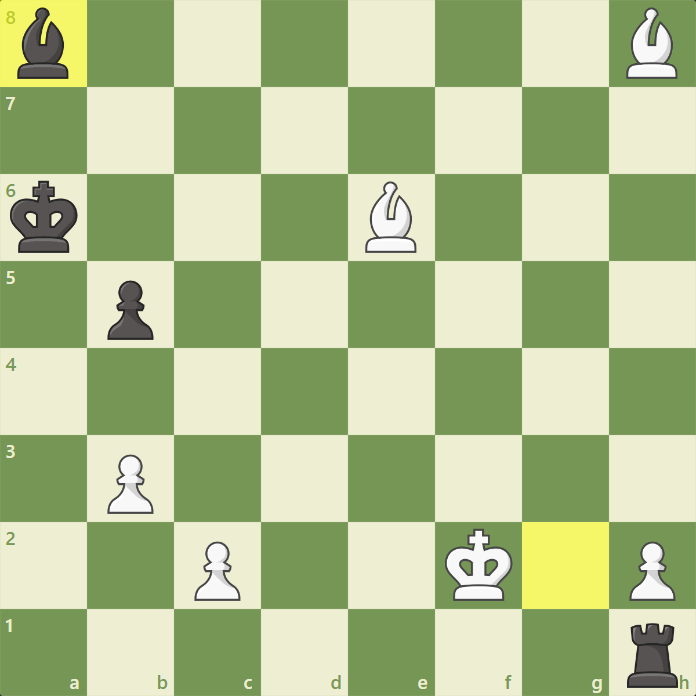B: (362, 177, 419, 256), (624, 5, 680, 81)
K: (443, 526, 514, 604)
P: (191, 539, 244, 604), (104, 452, 157, 517), (627, 540, 678, 603)
b: (15, 6, 71, 82)
k: (7, 179, 82, 256)
p: (104, 276, 156, 344)
r: (623, 621, 682, 690)
